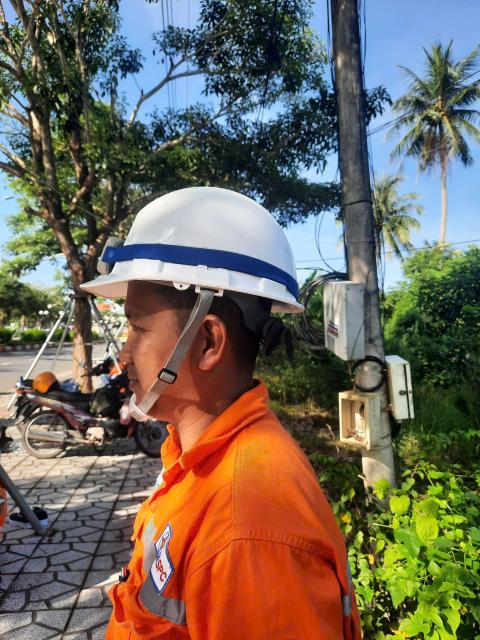helmet: (68, 164, 351, 341)
